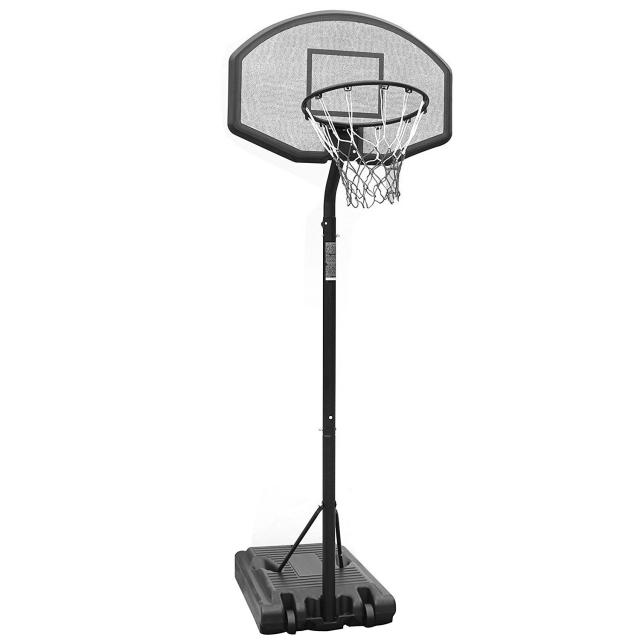backboard: (225, 0, 453, 167)
